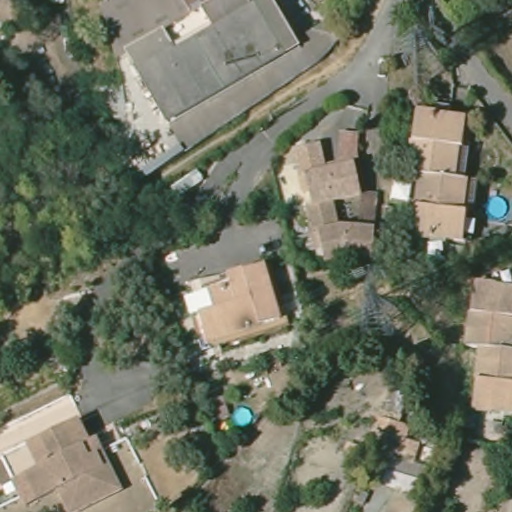pool: (229, 400, 261, 429), (485, 193, 512, 221)
